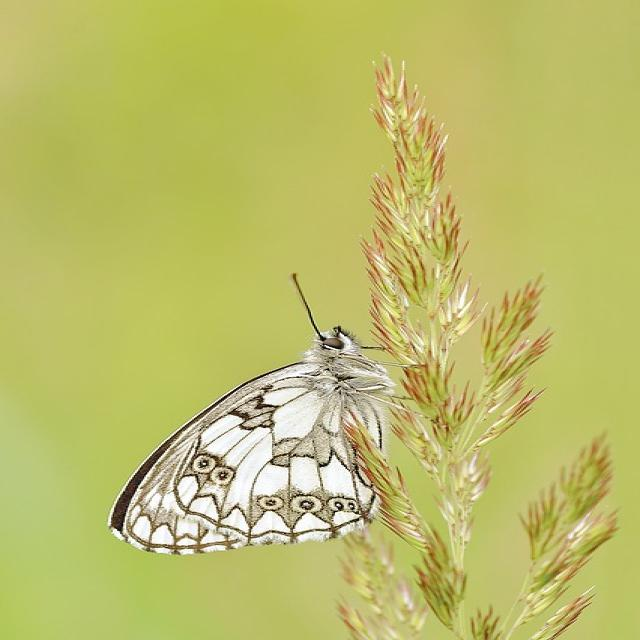butterfly: (111, 329, 394, 553)
